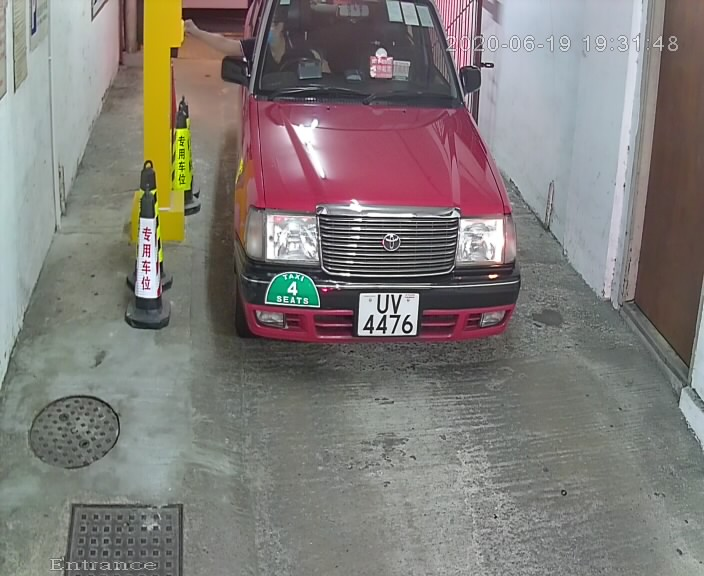taxi: (205, 2, 525, 374)
taxi_mark: (263, 266, 328, 319)
